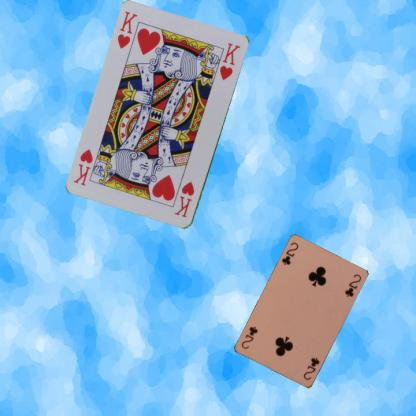2c: (279, 240, 300, 266), (301, 355, 321, 381)
Kh: (115, 9, 139, 51), (172, 179, 196, 220)
